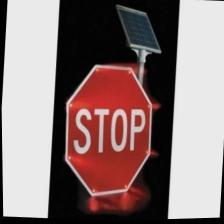Stop: (58, 61, 157, 201)
